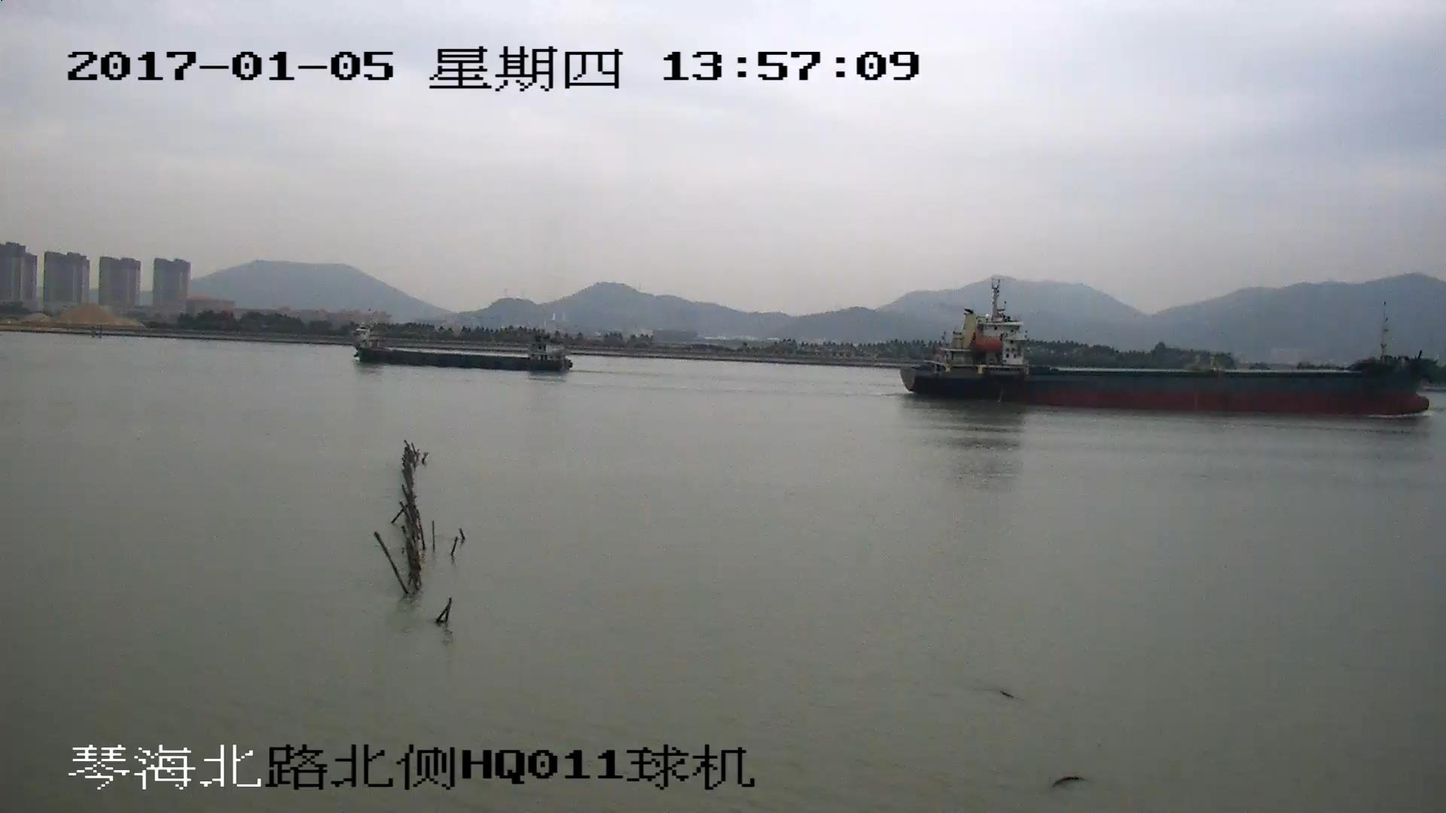general cargo ship: (897, 282, 1429, 417), (352, 312, 568, 373)
